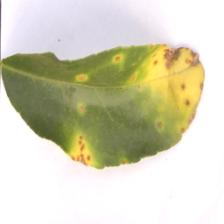canker: (55, 29, 215, 186)
